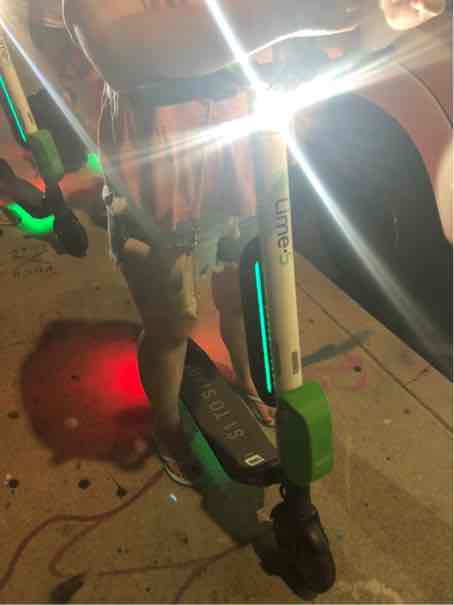scooter: (120, 31, 407, 596)
